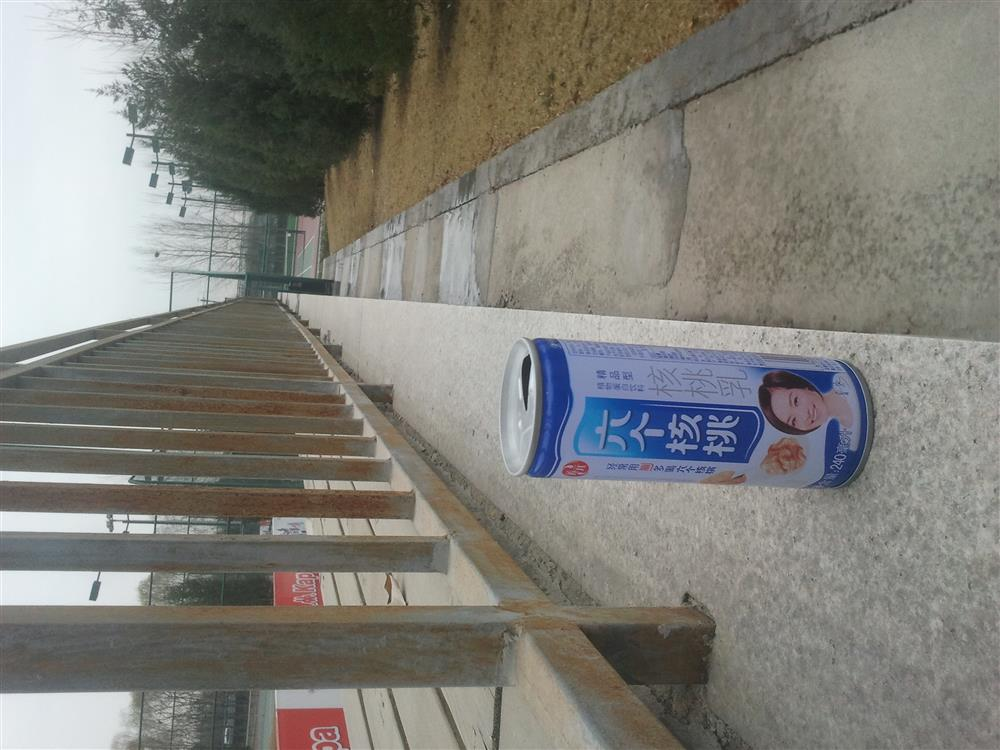Six_walnut: (498, 333, 876, 521)
